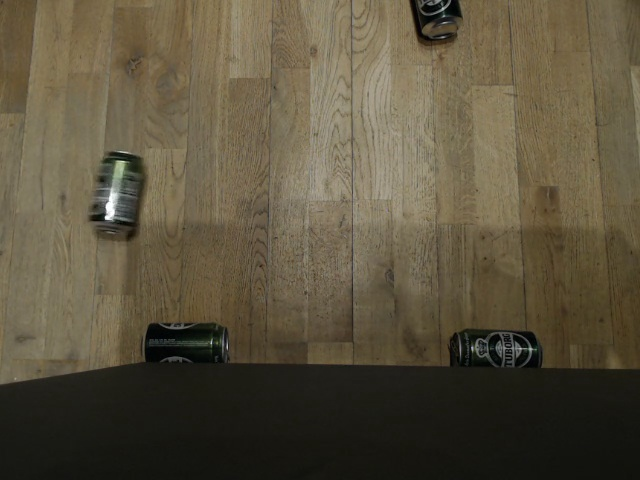beer: (86, 150, 146, 238)
